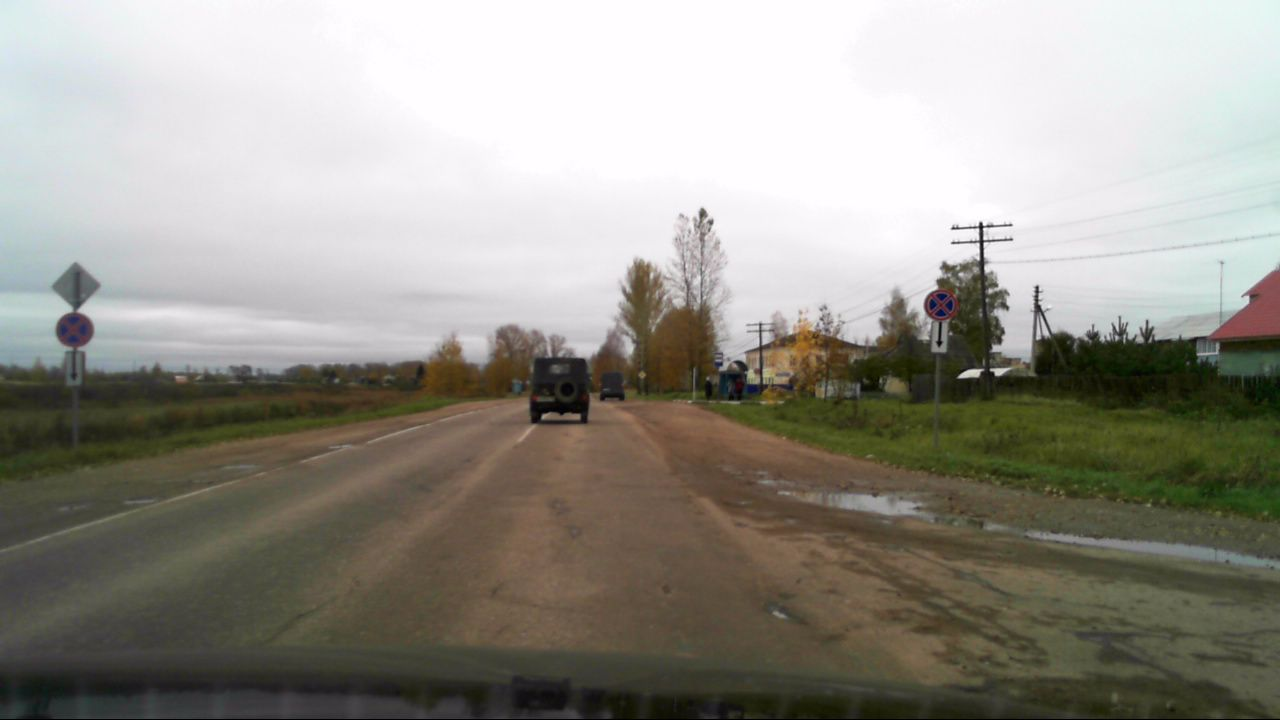No Parking: (56, 312, 94, 349)
